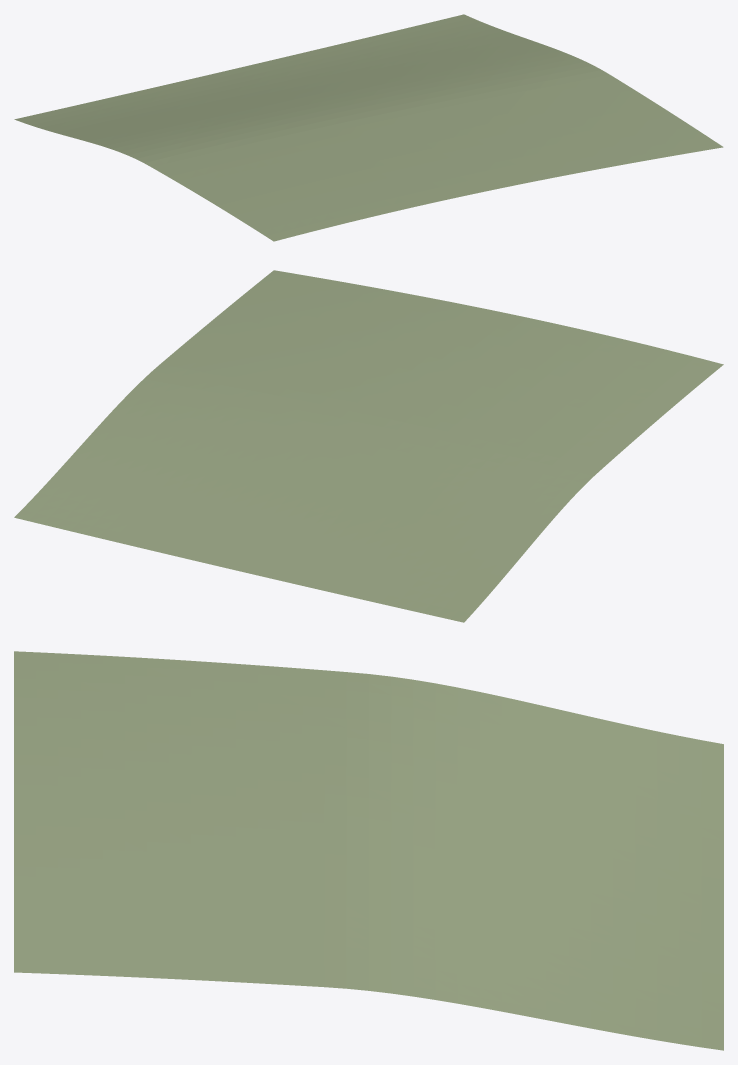
File: valley-2-9.glb
The picture shows the model from 3 angles, top to bottom: view 1: azimuth 30°, elevation 25°; view 2: azimuth 150°, elevation 25°; view 3: azimuth 270°, elevation 25°; orthographic projection. The views are drawn at different scales.
Parts seen in each view (by area): view 1: valley-2-9; view 2: valley-2-9; view 3: valley-2-9.
Part boxes in pixels (<box>): valley-2-9: <box>14,14,723,241</box>; valley-2-9: <box>14,270,723,622</box>; valley-2-9: <box>14,651,723,1050</box>.
Size of the model in its own units: 256 by 39.97 by 256.
